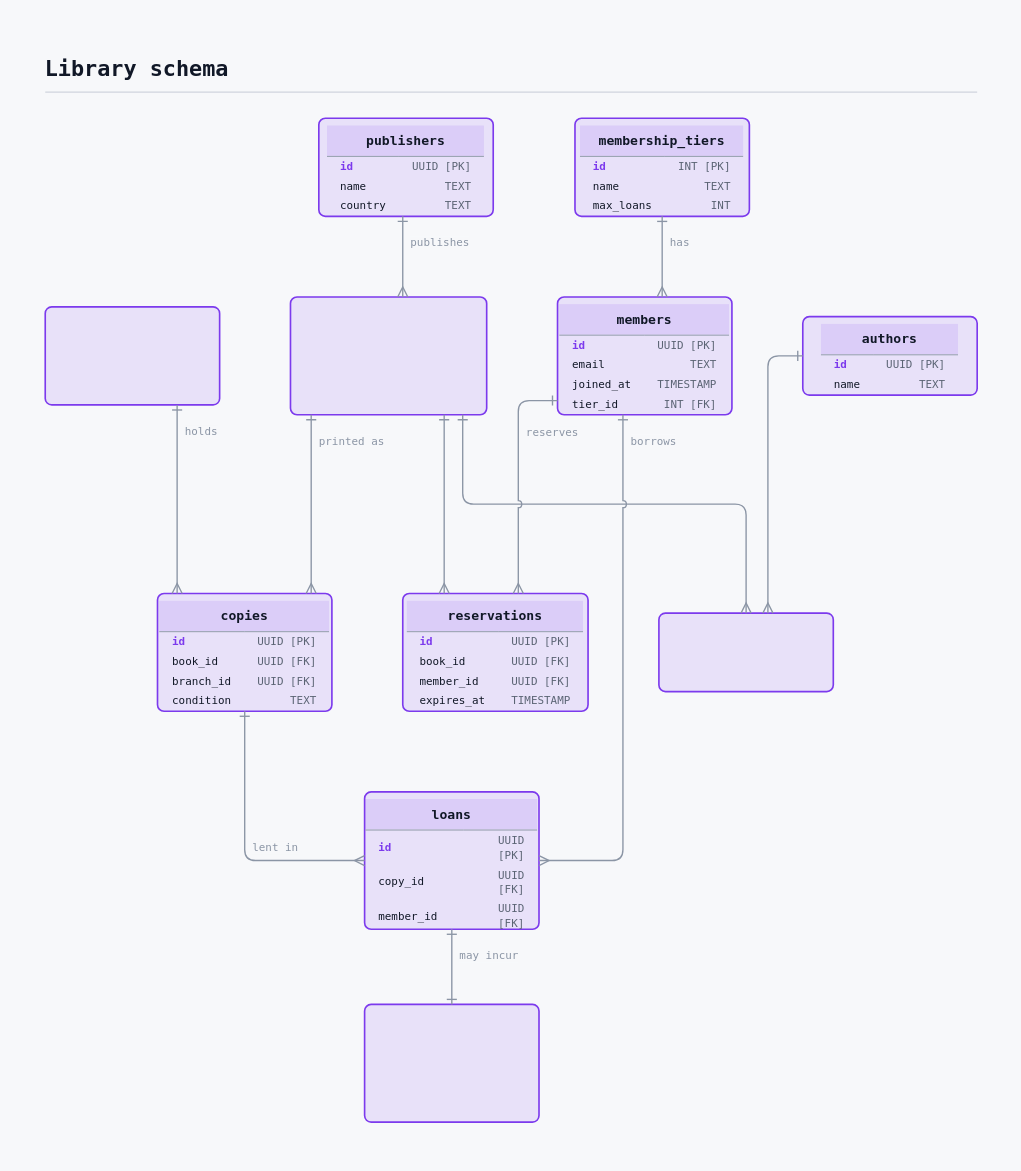
Some shapes in this 1021 by 1171 pixel diagram are drawn without their labels. The box of each missing label's shape, as (x1, y1, x2, y2) in pixels:
book_authors book_id UUID [FK] author_id UUID [FK]: (658, 612, 834, 692)
books id UUID [PK] isbn TEXT title TEXT publisher_id UUID [FK]: (289, 296, 487, 415)
branches id UUID [PK] name TEXT city TEXT: (44, 306, 220, 405)
fines id UUID [PK] loan_id UUID [FK] amount DECIMAL paid BOOL: (363, 1003, 539, 1122)
